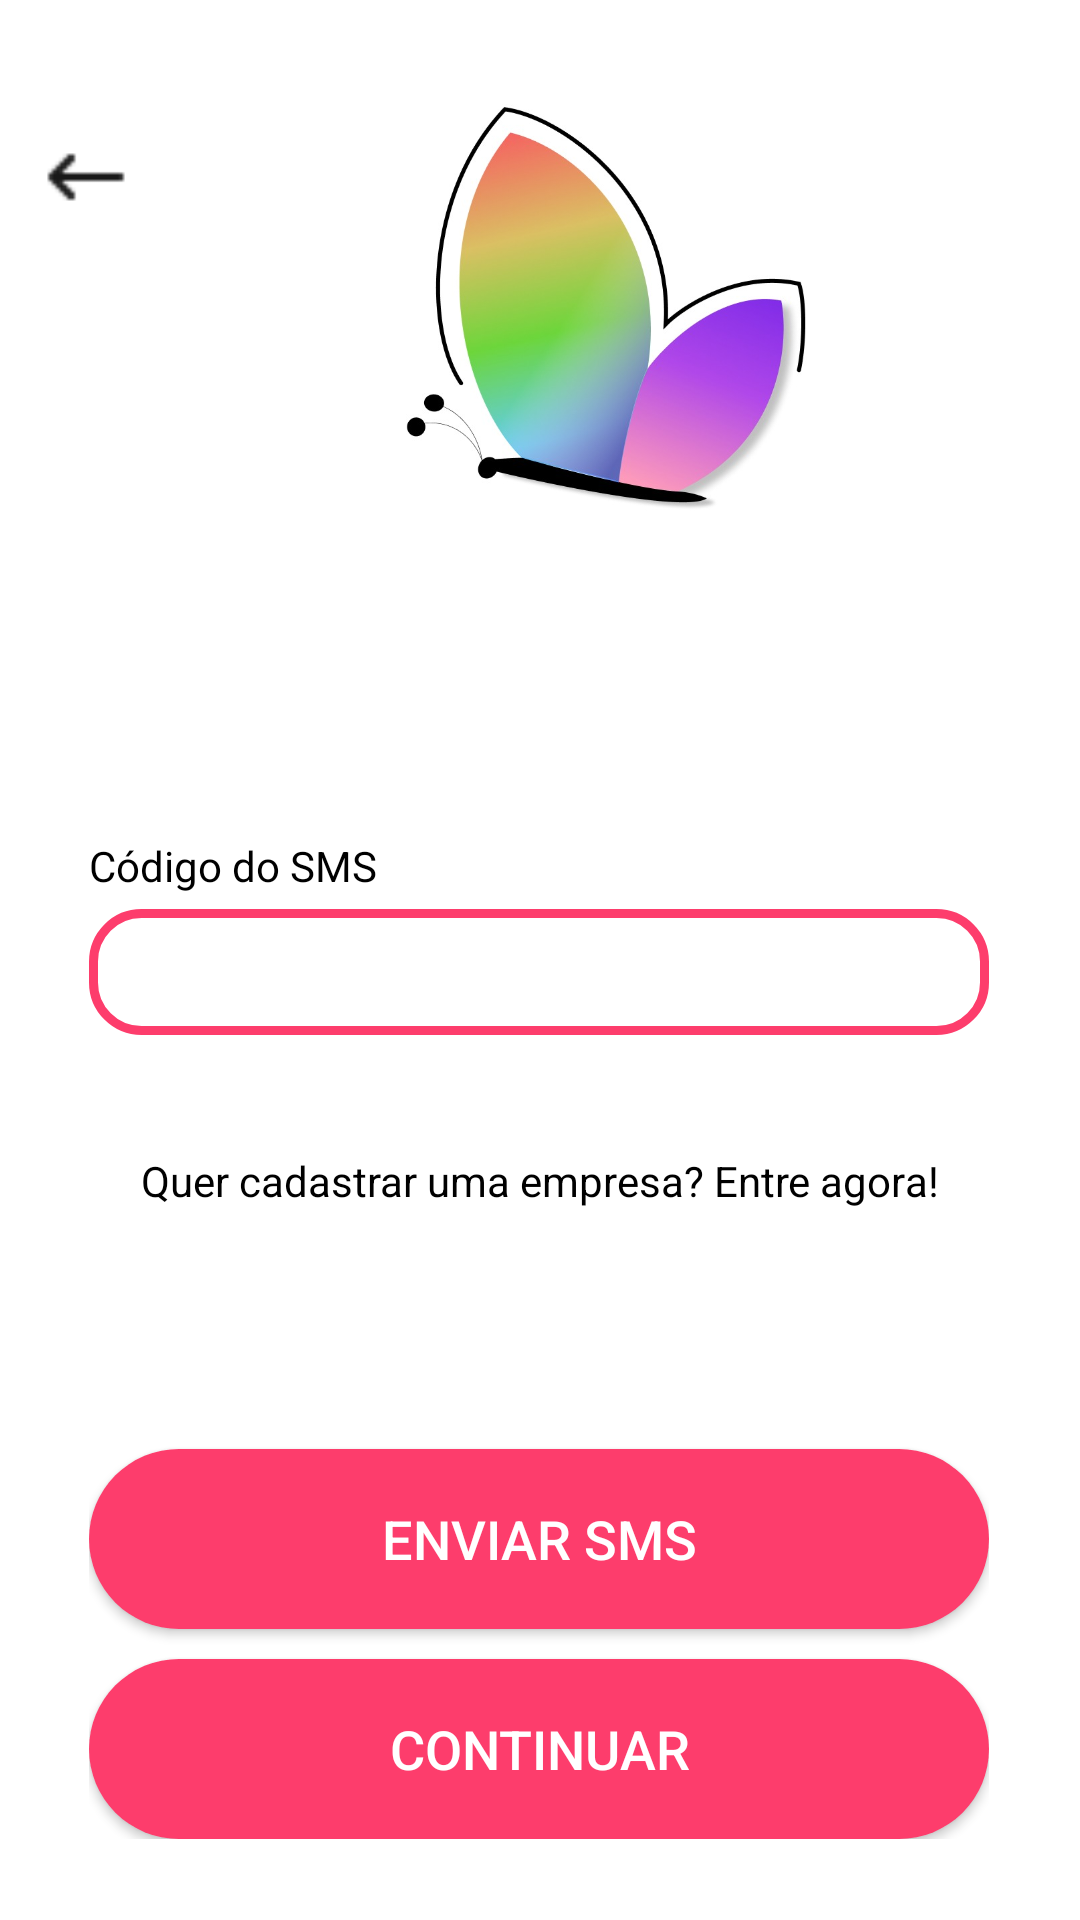

Screen size 1080px x 1920px. Icon name, then its center in pixels as (x,y):
voltar seta: (86,177)
